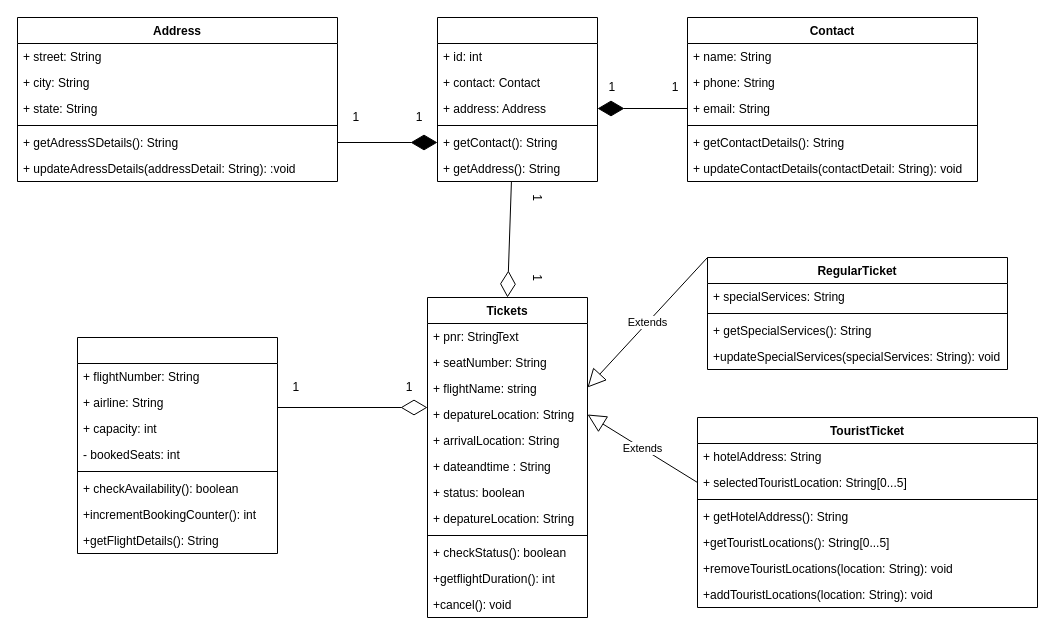
Some shapes in this 1055 by 638 pixel diagram are drawn without their labels. The shapes that lost their labels are listed below. From the top down, each one's box as (x1, y1, x2, y2) in pixels, then its label:
(436, 16, 598, 182): Passenger
(76, 336, 278, 554): Flights
